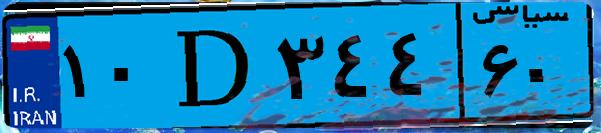0: (525, 38, 570, 115), (110, 28, 158, 98)
1: (57, 26, 110, 100)
3: (270, 28, 330, 110)
4: (385, 28, 445, 110), (330, 28, 385, 110)
6: (475, 38, 525, 113)
D: (158, 12, 270, 120)
